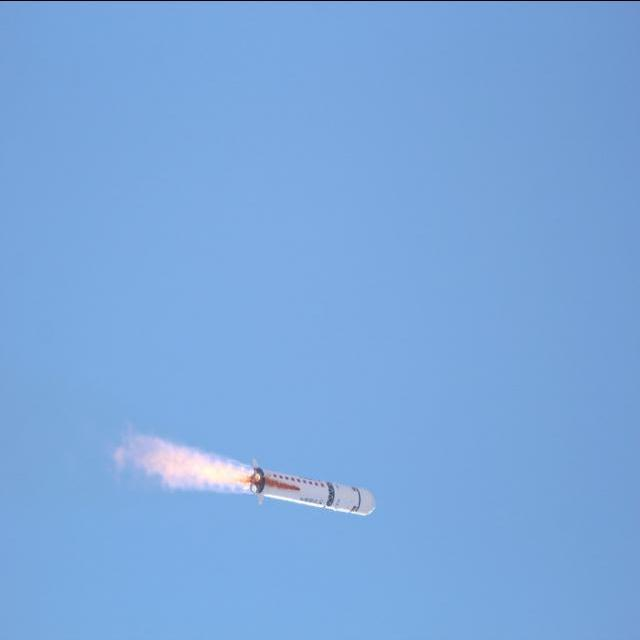missile: (248, 462, 380, 517)
